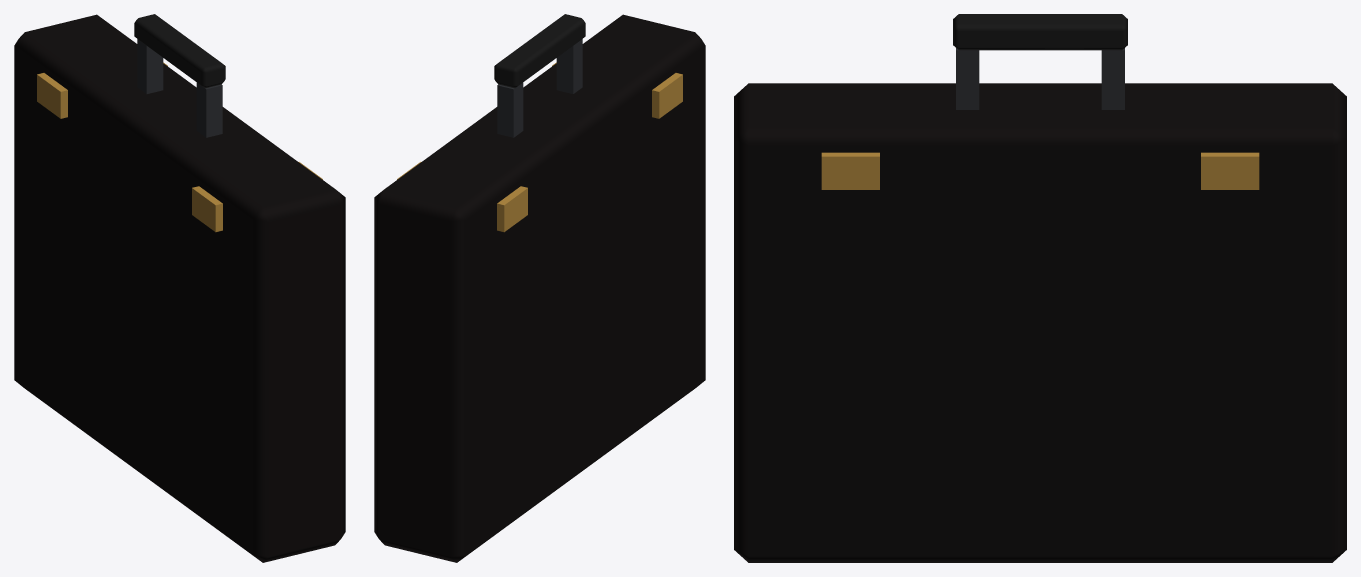
The model's file is briefcase.glb.
The picture shows the model from 3 angles, left to right: view 1: azimuth 30°, elevation 25°; view 2: azimuth 150°, elevation 25°; view 3: azimuth 270°, elevation 25°; orthographic projection. The views are drawn at different scales.
Visible parts, largest first — view 1: Briefcase; view 2: Briefcase; view 3: Briefcase.
Part boxes in pixels (left/top/right/bottom): Briefcase: left=14, top=14, right=345, bottom=562; Briefcase: left=374, top=14, right=705, bottom=562; Briefcase: left=734, top=14, right=1346, bottom=562.
Bounding box in the file's own units: 0.104 × 0.395 × 0.42.
